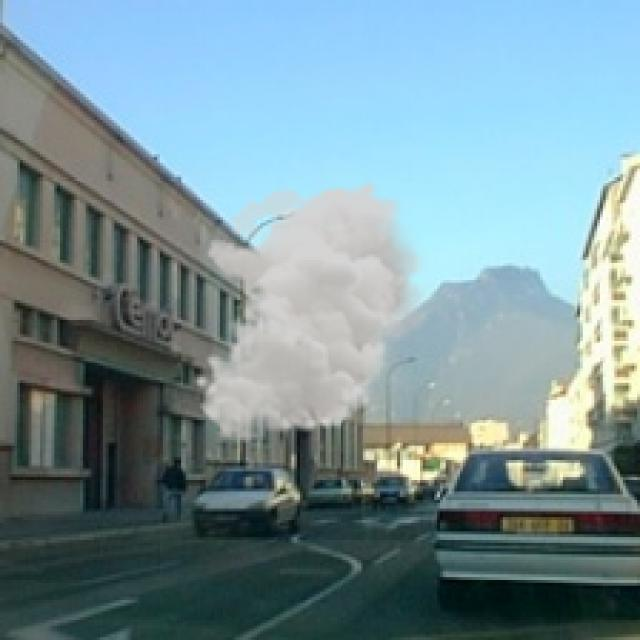smoke: (192, 180, 434, 443)
